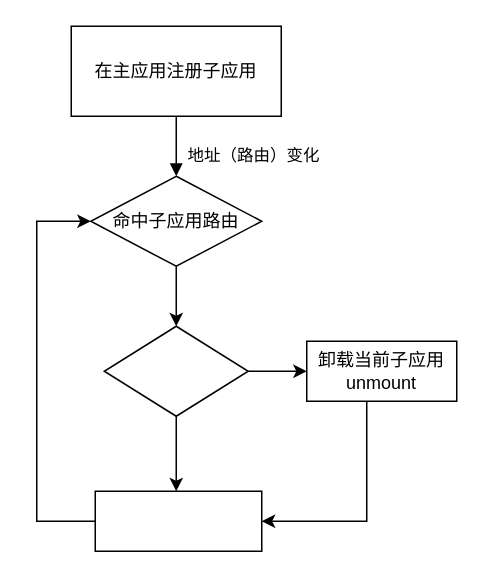
The diagram is 483 pixels wide and 578 high, and some of its shapes have lost their labels. Here are the shapes that lost their labels. From the top down, the centre of each, then its label:
At point (175, 370): "当前是否有子应用".
At point (178, 520): "加载子应用 bootstrap | mount".
